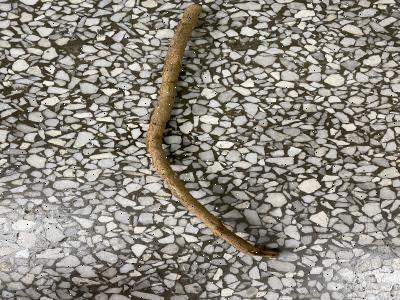Root: (146, 4, 280, 256)
